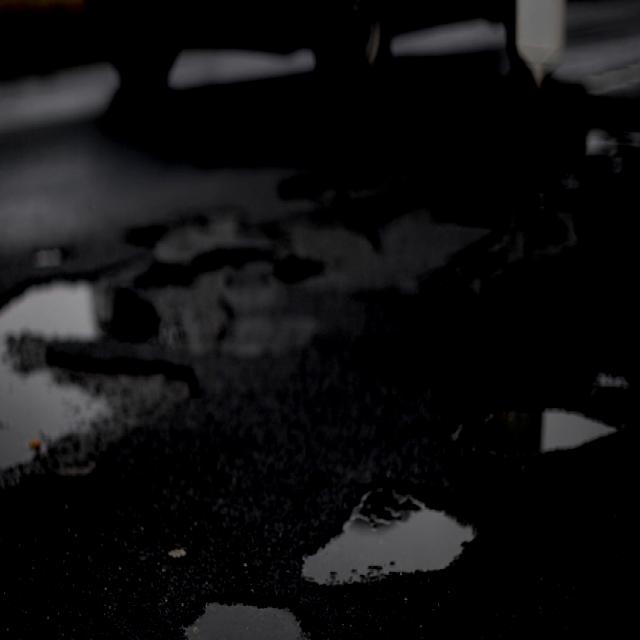Pothole: (297, 378, 640, 597), (0, 238, 197, 536)
